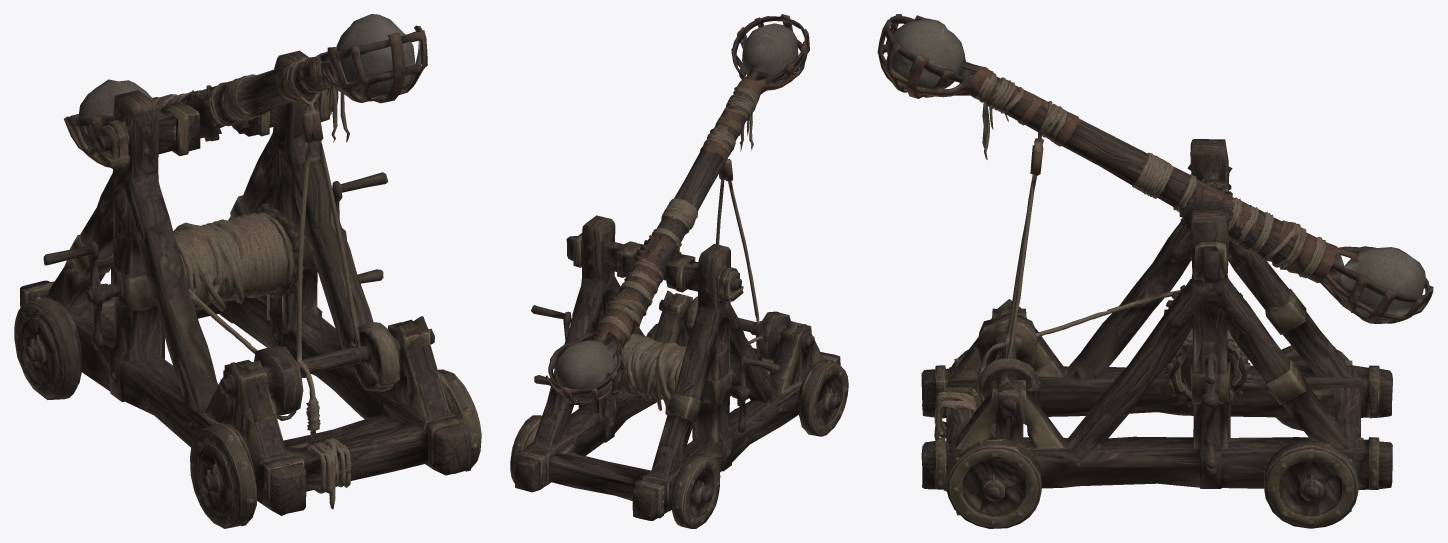
The model's file is catapulta.gltf.
3 renders of one model, left to right at view 1: azimuth 30°, elevation 25°; view 2: azimuth 150°, elevation 25°; view 3: azimuth 270°, elevation 25°, orthographic. The views are drawn at different scales.
Parts seen in each view (by area): view 1: Mesh_0; view 2: Mesh_0; view 3: Mesh_0.
Boxes of the visible parts, left/top/right/bottom form: Mesh_0: left=14, top=14, right=481, bottom=528; Mesh_0: left=510, top=14, right=848, bottom=528; Mesh_0: left=877, top=14, right=1433, bottom=528.
Size of the model in its own units: 1.67 by 2.35 by 2.6.
Materials: 1 (1 with a texture image).
